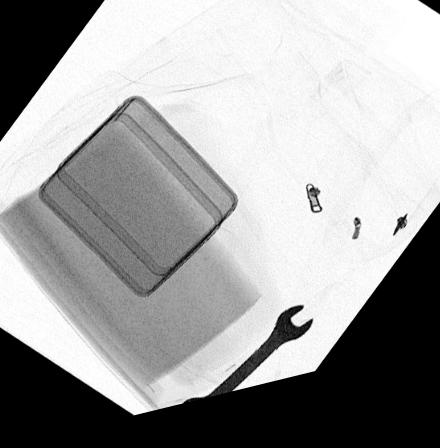Wrench: (178, 317, 317, 413)
